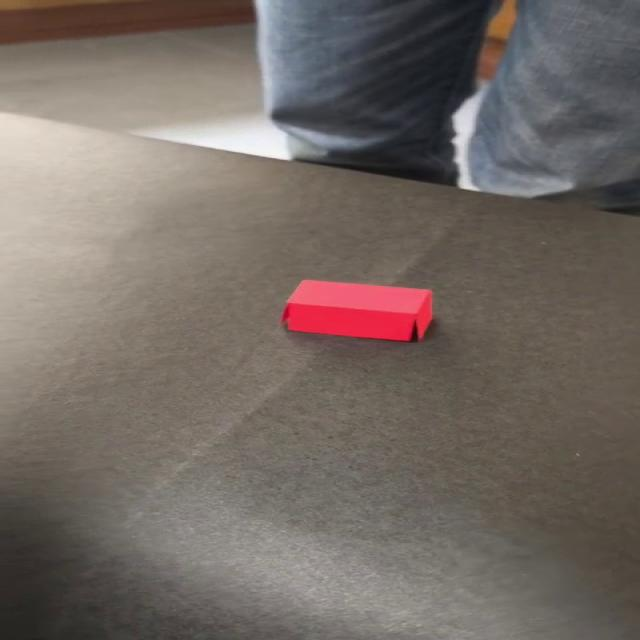red block: (280, 279, 433, 342)
